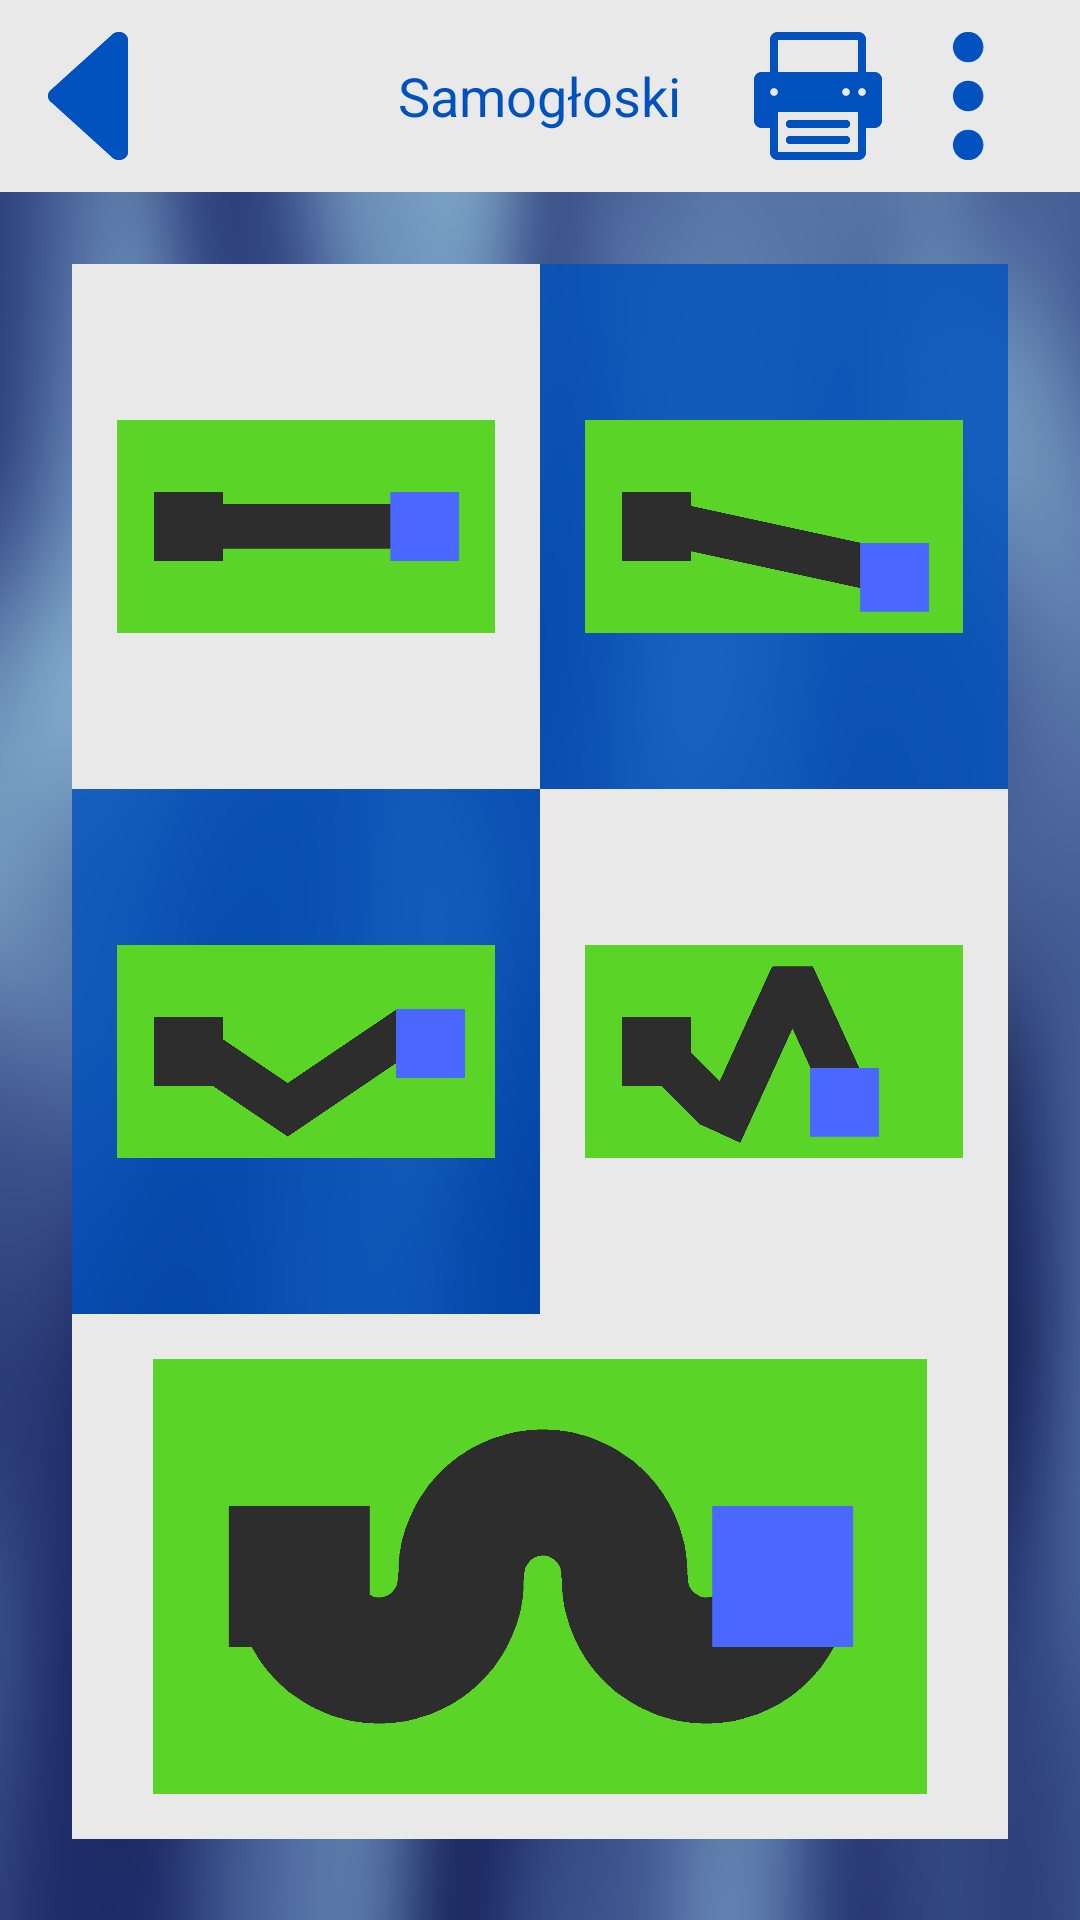

Named icons in this screenshot (1080 x 1920) and their bounding boxes, (x1, y1, x2, y2):
Przycisk powrotu: (48, 32, 128, 160)
Przycisk wydruku: (754, 32, 882, 160)
